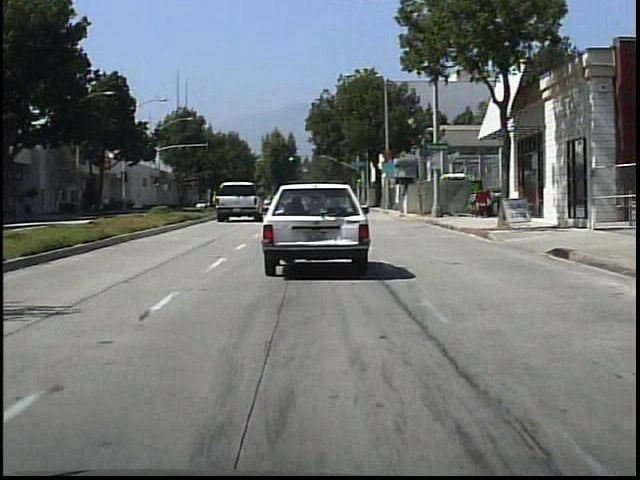person: (22, 195, 41, 226)
